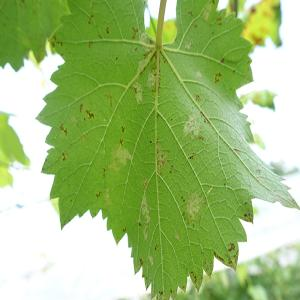Folha: (34, 0, 299, 298)
Fungo: (182, 189, 206, 228), (108, 143, 132, 172), (136, 50, 160, 78), (139, 194, 151, 240), (182, 112, 201, 138), (155, 139, 169, 174), (133, 81, 143, 104), (137, 30, 150, 47), (146, 69, 156, 91), (58, 123, 68, 136), (213, 70, 221, 84), (105, 91, 112, 107), (85, 108, 94, 119), (132, 25, 138, 39), (61, 150, 68, 160), (149, 254, 156, 264), (228, 242, 235, 252), (81, 132, 88, 142), (88, 14, 94, 24), (196, 69, 202, 78), (198, 134, 204, 142), (95, 190, 101, 198), (102, 167, 106, 178), (79, 102, 83, 112), (195, 94, 200, 102), (105, 25, 109, 34), (188, 10, 194, 16), (119, 138, 123, 146), (154, 243, 158, 251), (121, 125, 125, 132)
